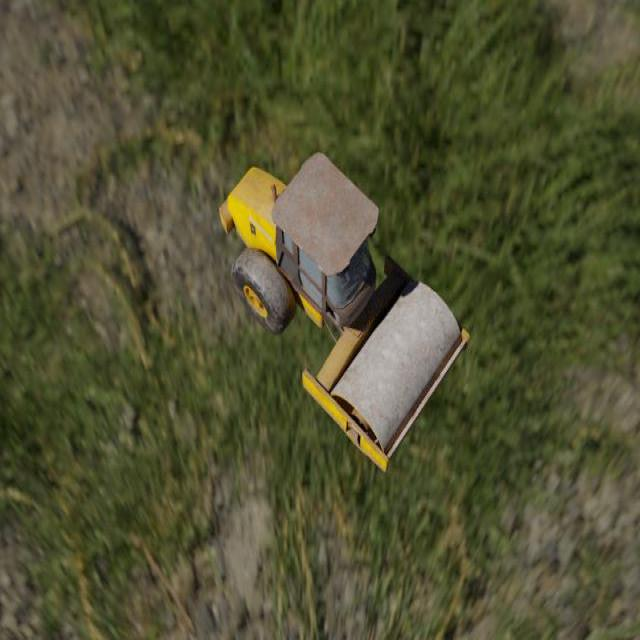Roller: (218, 151, 470, 472)
